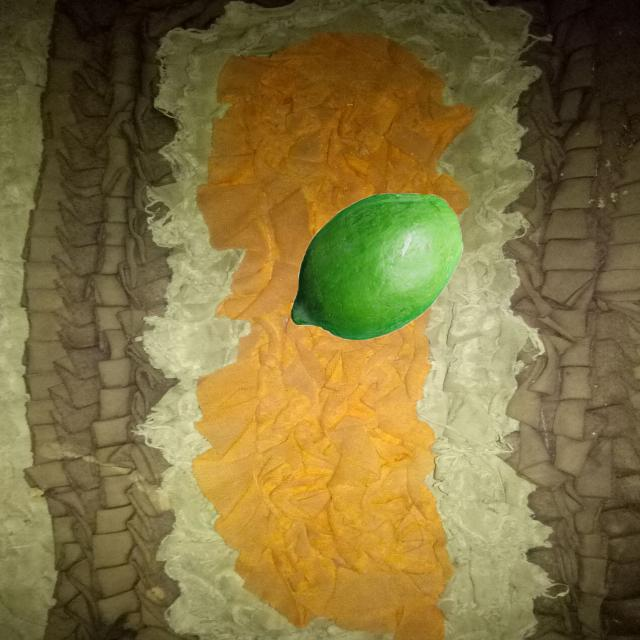Pepaya unrippen: (291, 190, 463, 344)
